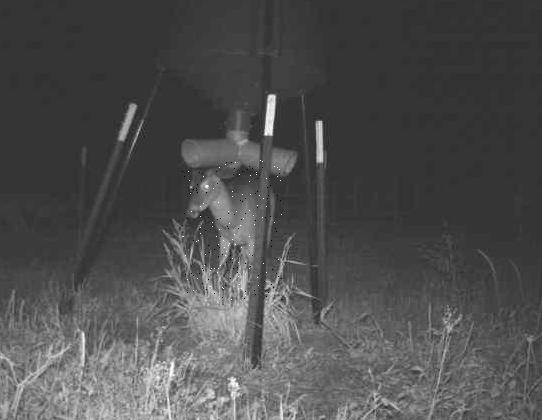Deer: (182, 158, 282, 300)
